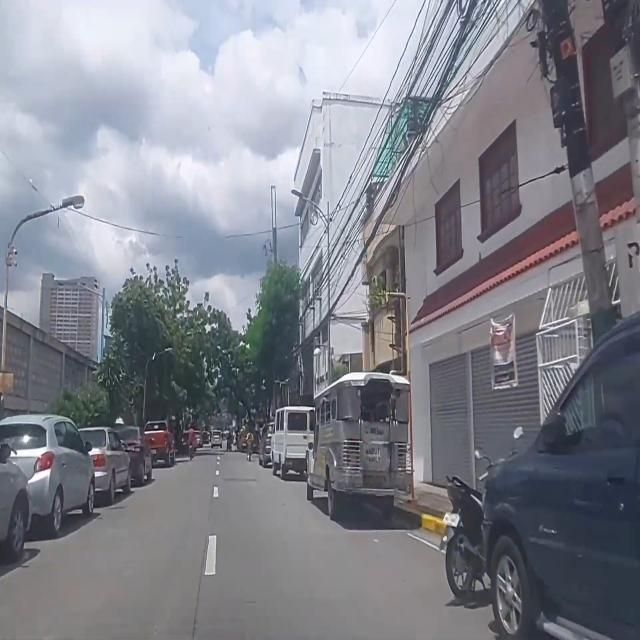car: (467, 310, 638, 640), (2, 414, 96, 534), (0, 436, 30, 560), (82, 426, 132, 500), (110, 425, 152, 483), (142, 421, 176, 468), (258, 421, 275, 467)
jeepney: (306, 373, 412, 526)
motorcycle: (443, 446, 517, 604), (245, 429, 254, 463), (188, 423, 195, 461)
truck: (270, 406, 314, 480)
